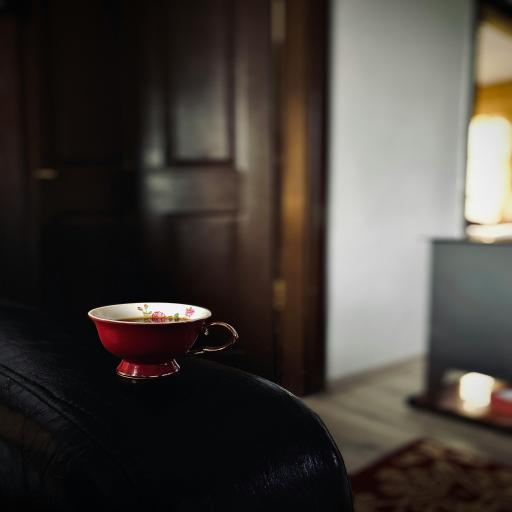cup: (88, 300, 238, 380)
